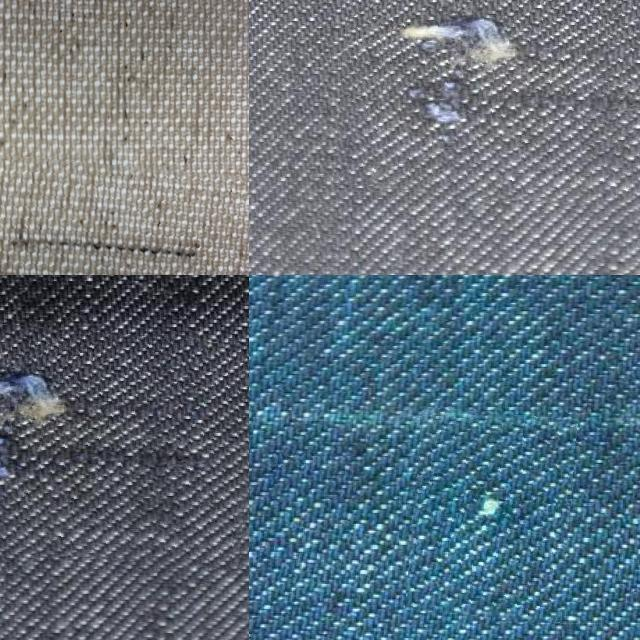stains: (338, 0, 640, 206), (0, 321, 249, 562), (410, 409, 574, 619), (0, 158, 249, 275)
